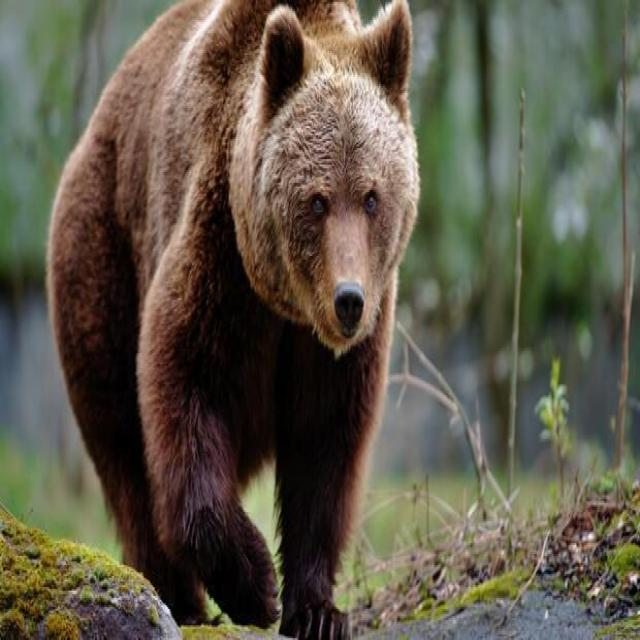Bear: (44, 0, 421, 640)
